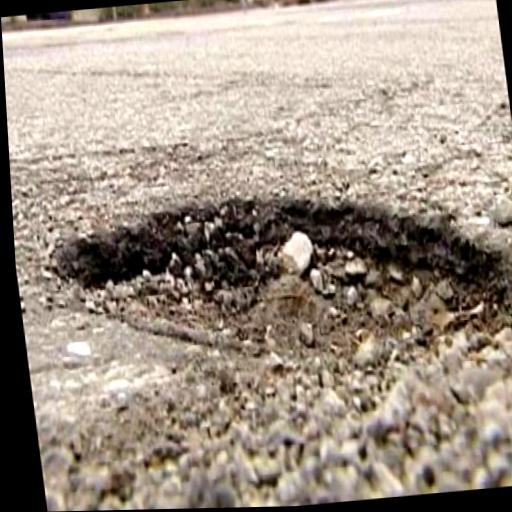pothole: (43, 171, 512, 432)
